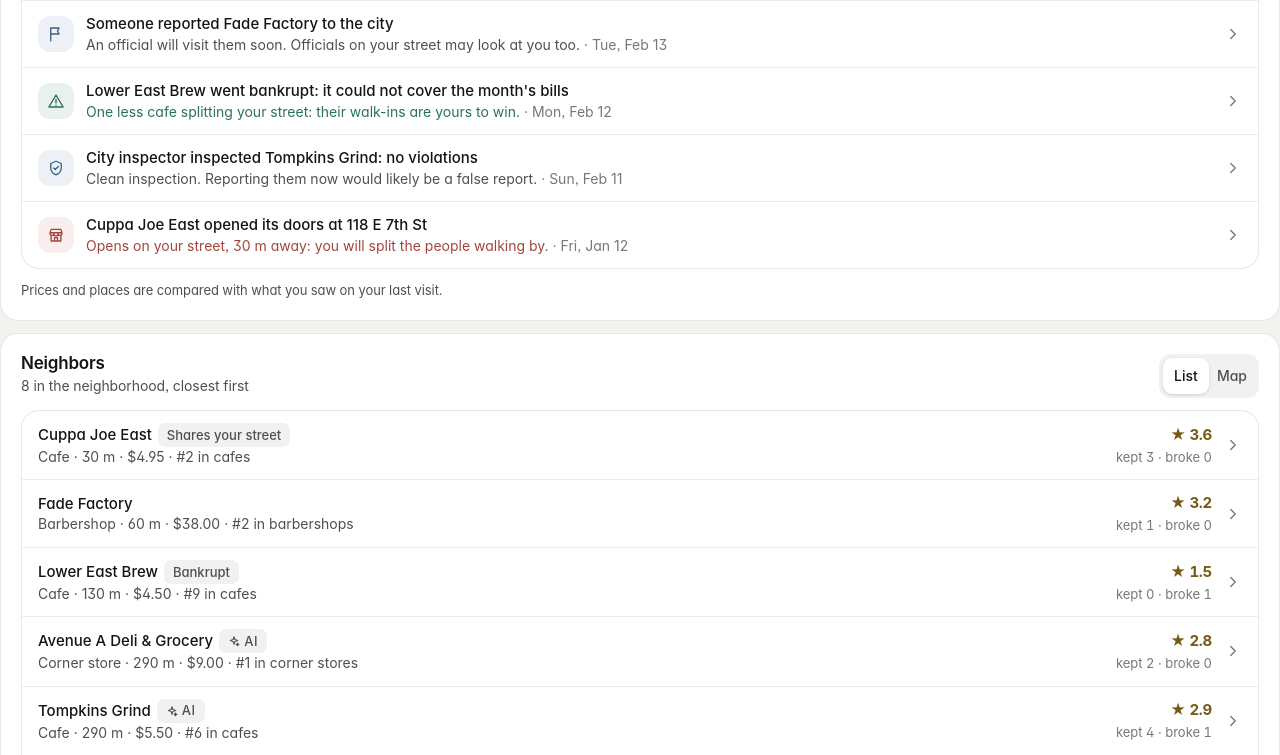
Test: Network tab: neighbors › switches to the map and back
(page scrolled)
What coordinates should you click on to do the following:
click the button "Map"
I would click on:
 (1232, 376)
Its box is x1=1209 y1=358 x2=1255 y2=394.
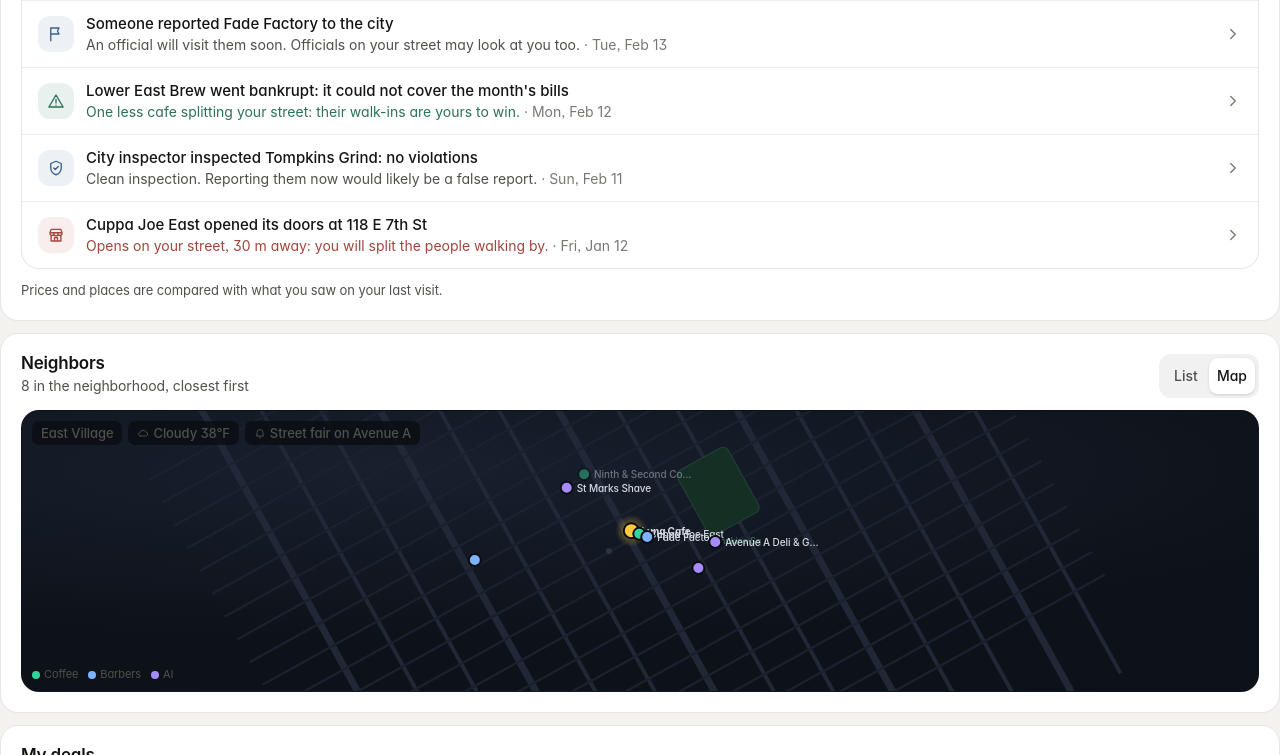
Now the picture named "Map of the neighborhood" is shown, box x1=22 y1=411 x2=1258 y2=691
What coordinates should you click on to do the following:
click the button "List"
I would click on:
 (1186, 376)
Its box is x1=1163 y1=358 x2=1209 y2=394.
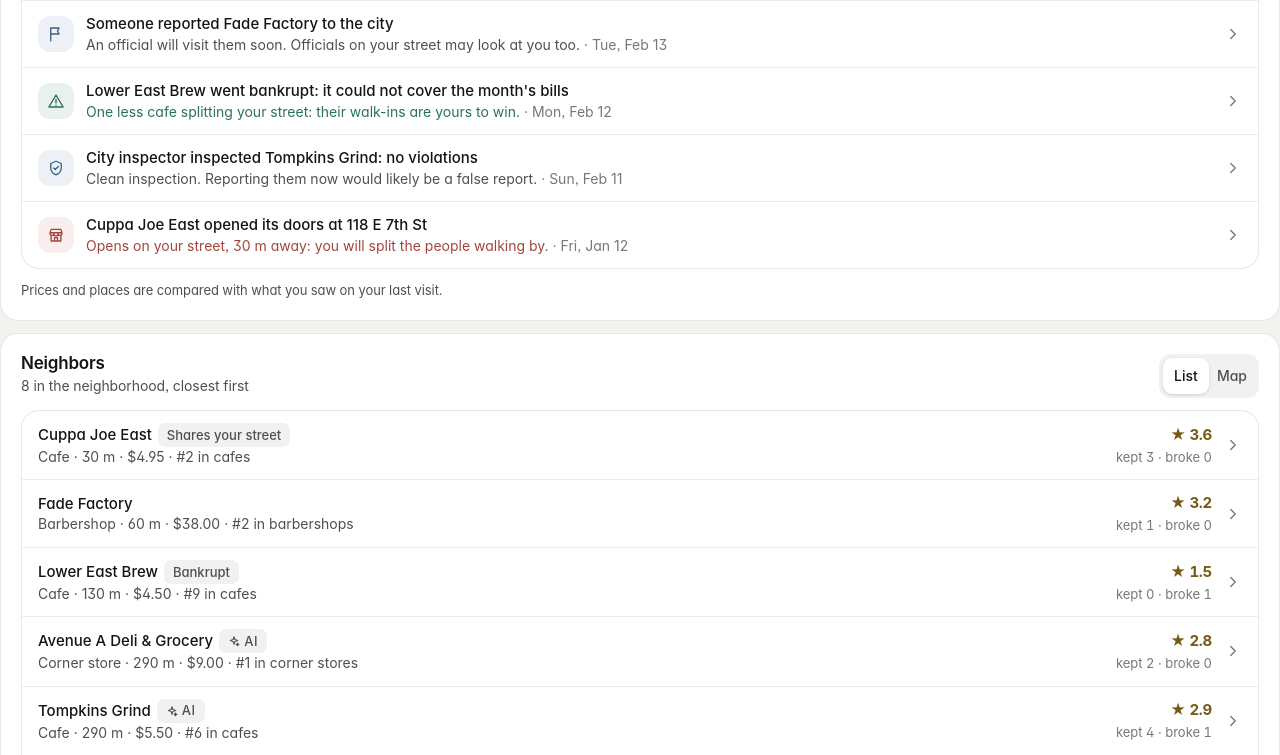
Now the button "Fade Factory" is shown, box x1=22 y1=479 x2=1258 y2=547
